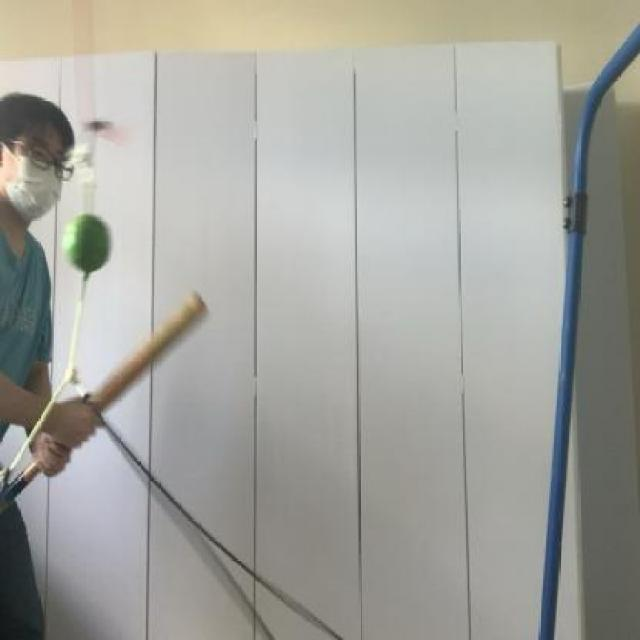baseball: (59, 204, 119, 290)
